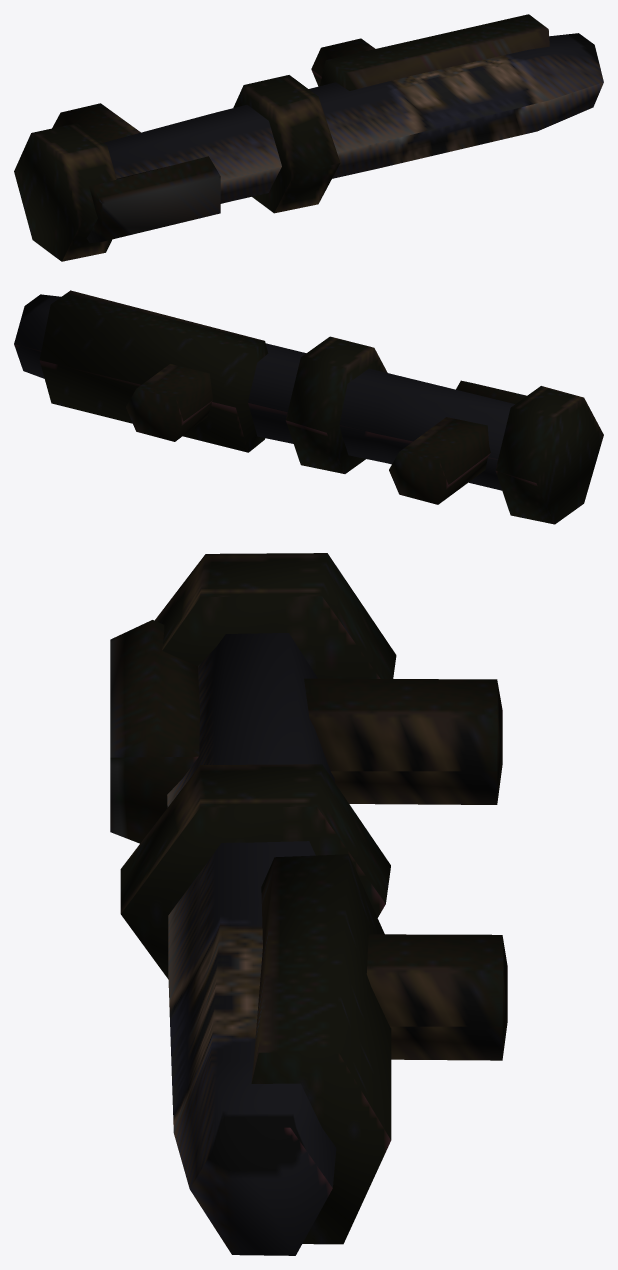
The model's file is g_rockout.gltf.
The picture shows the model from 3 angles, top to bottom: view 1: azimuth 30°, elevation 25°; view 2: azimuth 150°, elevation 25°; view 3: azimuth 270°, elevation 25°; orthographic projection. The views are drawn at different scales.
Visible parts, largest first — view 1: mesh0_noesis_meshnode_0000; view 2: mesh0_noesis_meshnode_0000; view 3: mesh0_noesis_meshnode_0000.
Part boxes in pixels (bbox=[...]): mesh0_noesis_meshnode_0000: bbox=[14, 14, 603, 261]; mesh0_noesis_meshnode_0000: bbox=[14, 290, 603, 524]; mesh0_noesis_meshnode_0000: bbox=[110, 553, 507, 1255].
Bounding box in the file's own units: 30.79 × 6.03 × 9.85.
Materials: 1 (1 with a texture image).
